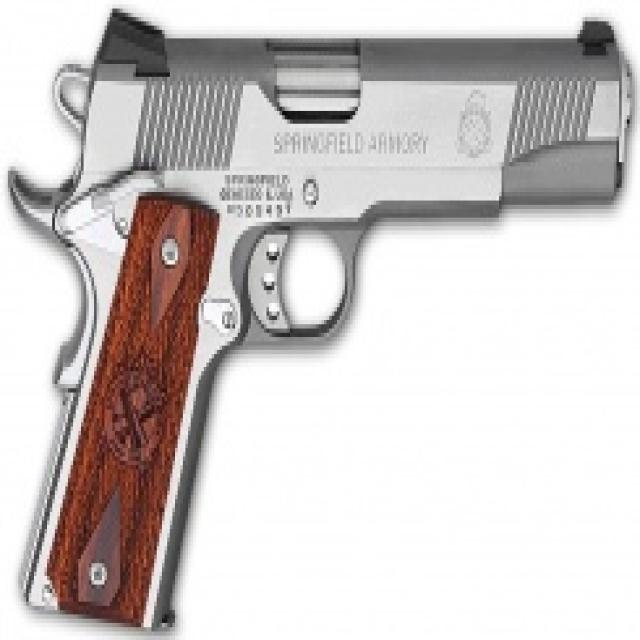pistol: (1, 1, 638, 628)
